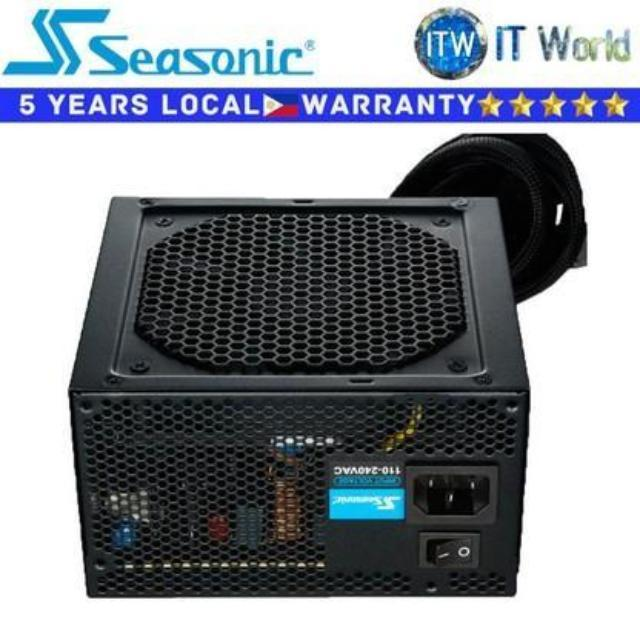PSU: (57, 175, 534, 608)
